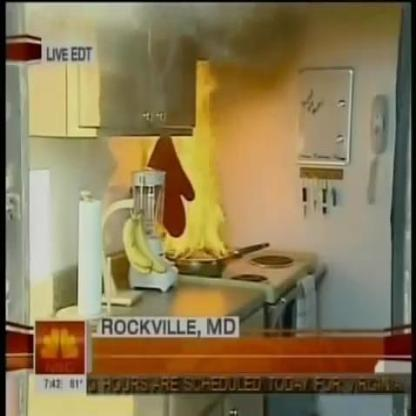fire: (167, 126, 228, 262)
